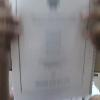notebook: (10, 0, 96, 99)
